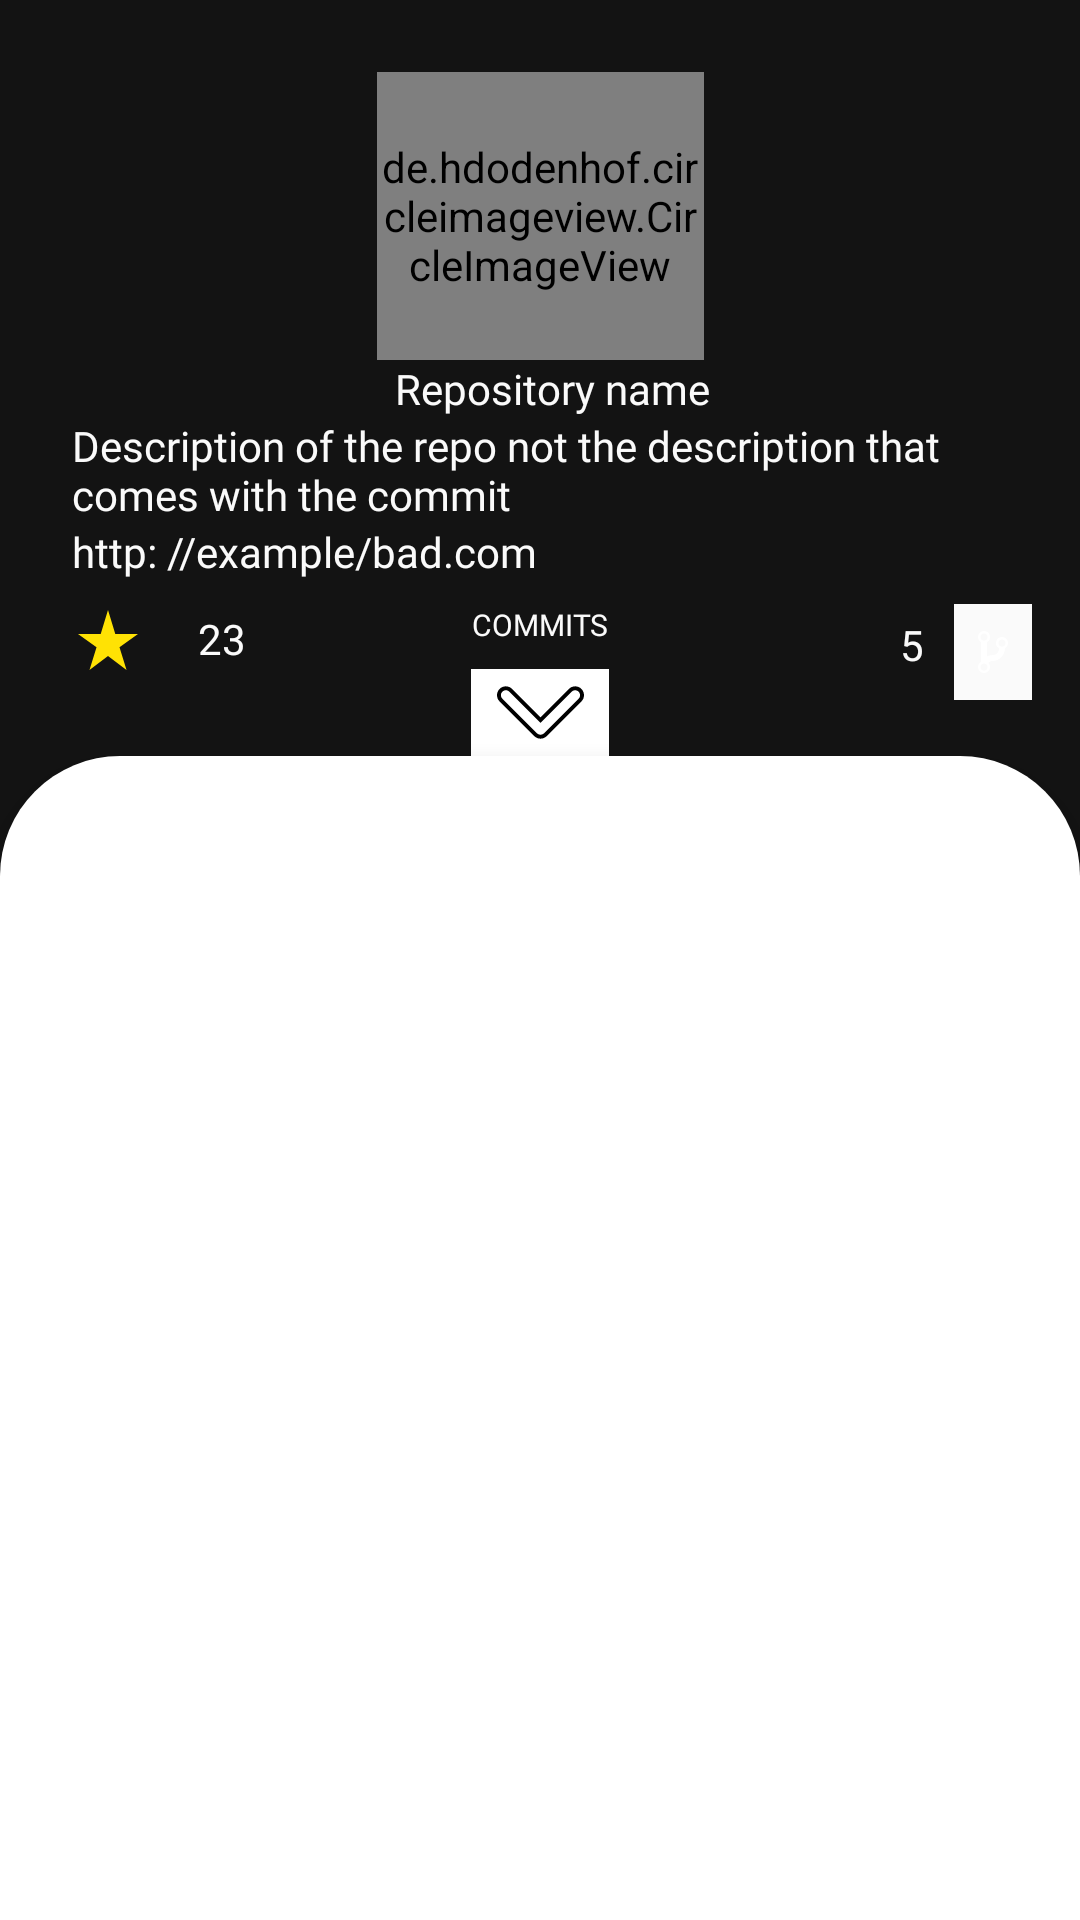

Named icons in this screenshot (1080 × 1920) and their bounding boxes, (x1,y1,x2,y2):
down arrow: (497,686,584,739)
star rate: (78,610,138,670)
